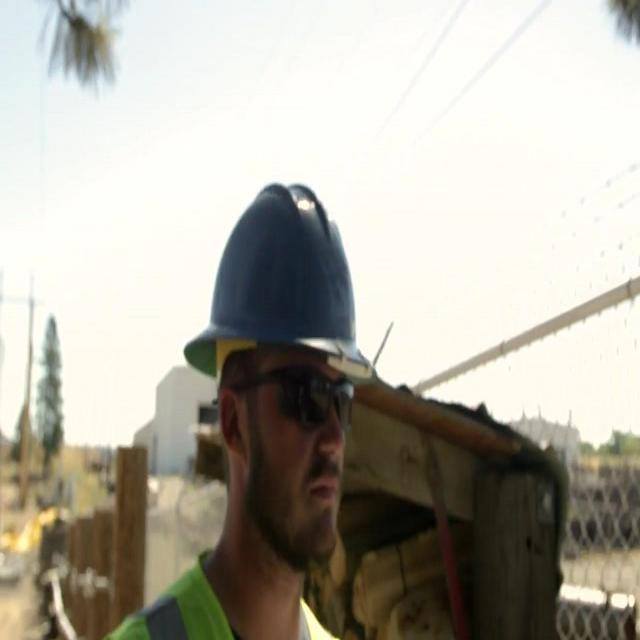Reflective-Jacket: (94, 549, 372, 640)
Safety-Helmet: (182, 170, 384, 402)
